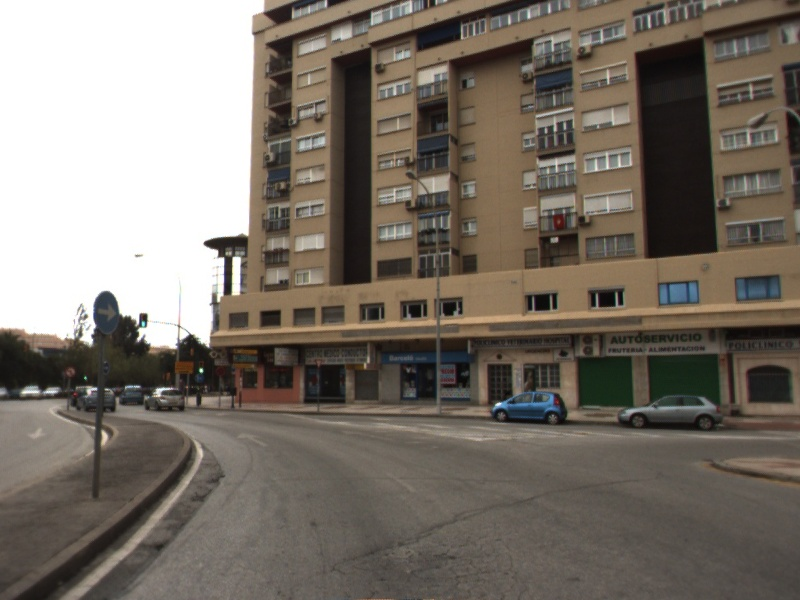STRAIGHT: (235, 430, 270, 449)
